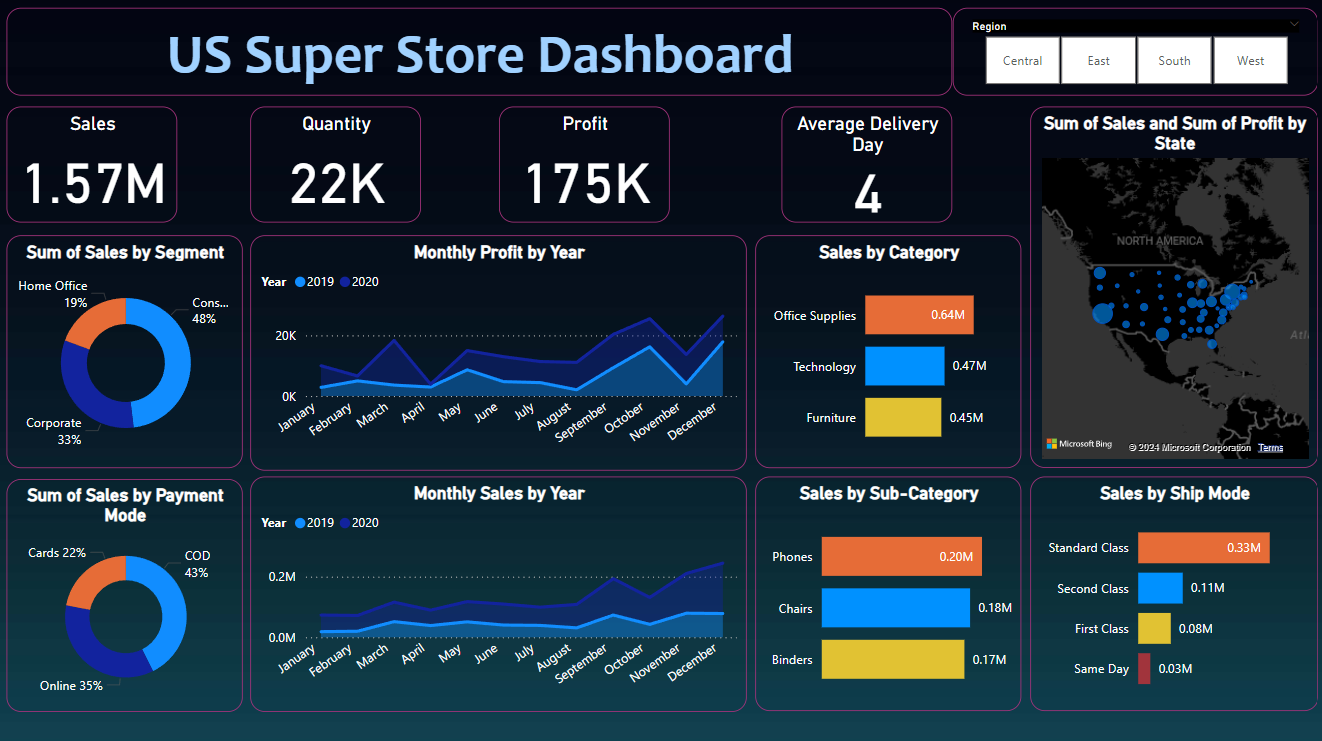

Layout of this report page (visuals, bound fields, positions):
{"tool":"powerbi","page":{"name":"Page 1","canvas":[1280,720],"ordinal":0},"visuals":[{"type":"clusteredBarChart","title":"Sales by Category","fields":{"Category":["SuperStore_Sales_Dataset.Category"],"Y":["Sum(SuperStore_Sales_Dataset.Sales)"]},"box":[730,228,257,225],"z":0},{"type":"clusteredBarChart","title":"Sales by Sub-Category","fields":{"Category":["SuperStore_Sales_Dataset.Sub-Category"],"Y":["Sum(SuperStore_Sales_Dataset.Sales)"]},"box":[730,461,257,226],"z":1000},{"type":"clusteredBarChart","title":"Sales by Ship Mode","fields":{"Category":["SuperStore_Sales_Dataset.Ship Mode"],"Y":["Sum(SuperStore_Sales_Dataset.Sales)"]},"box":[995,461,278,226],"z":2000},{"type":"stackedAreaChart","title":"Monthly Sales by Year","fields":{"Y":["Sum(SuperStore_Sales_Dataset.Sales)"],"Category":["SuperStore_Sales_Dataset.Order Date.Variation.Date Hierarchy.Month"],"Series":["SuperStore_Sales_Dataset.Order Date.Variation.Date Hierarchy.Year"]},"box":[242,461,479,227],"z":3000},{"type":"stackedAreaChart","title":"Monthly Profit by Year","fields":{"Category":["SuperStore_Sales_Dataset.Order Date.Variation.Date Hierarchy.Month"],"Series":["SuperStore_Sales_Dataset.Order Date.Variation.Date Hierarchy.Year"],"Y":["Sum(SuperStore_Sales_Dataset.Profit)"]},"box":[242,228,479,227],"z":4000},{"type":"map","fields":{"Category":["SuperStore_Sales_Dataset.State"],"Size":["Sum(SuperStore_Sales_Dataset.Sales)"]},"box":[995,104,278,349],"z":5000},{"type":"donutChart","fields":{"Category":["SuperStore_Sales_Dataset.Segment"],"Y":["Sum(SuperStore_Sales_Dataset.Sales)"]},"box":[7,228,228,225],"z":6000},{"type":"donutChart","fields":{"Category":["SuperStore_Sales_Dataset.Payment Mode"],"Y":["Sum(SuperStore_Sales_Dataset.Sales)"]},"box":[7,463,228,225],"z":7000},{"type":"slicer","fields":{"Values":["SuperStore_Sales_Dataset.Region"]},"box":[920,9,353,85],"z":8000},{"type":"textbox","box":[7,9,913,85],"z":9000},{"type":"card","title":"Sales","fields":{"Values":["Sum(SuperStore_Sales_Dataset.Sales)"]},"box":[7,104,165,112],"z":10000},{"type":"card","title":"Quantity","fields":{"Values":["Sum(SuperStore_Sales_Dataset.Quantity)"]},"box":[242,104,165,112],"z":11000},{"type":"card","title":"Profit","fields":{"Values":["Sum(SuperStore_Sales_Dataset.Profit)"]},"box":[482,104,165,112],"z":12000},{"type":"card","title":"Average Delivery Day","fields":{"Values":["Avg(SuperStore_Sales_Dataset.AvgDelivery)"]},"box":[755,104,165,112],"z":13000}]}

Visuals, with their boxes in screenshot pixels (x1, y1, x2, y2), scaled from the page's 1280x720 canvas onto the 1322x741 screenshot:
"Sales by Category" clusteredBarChart: [754,235,1019,466]
"Sales by Sub-Category" clusteredBarChart: [754,474,1019,707]
"Sales by Ship Mode" clusteredBarChart: [1028,474,1315,707]
"Monthly Sales by Year" stackedAreaChart: [250,474,745,708]
"Monthly Profit by Year" stackedAreaChart: [250,235,745,468]
map - SuperStore_Sales_Dataset.State x Sum(SuperStore_Sales_Dataset.Sales): [1028,107,1315,466]
donutChart - SuperStore_Sales_Dataset.Segment x Sum(SuperStore_Sales_Dataset.Sales): [7,235,243,466]
donutChart - SuperStore_Sales_Dataset.Payment Mode x Sum(SuperStore_Sales_Dataset.Sales): [7,477,243,708]
slicer - SuperStore_Sales_Dataset.Region: [950,9,1315,97]
textbox: [7,9,950,97]
"Sales" card: [7,107,178,222]
"Quantity" card: [250,107,420,222]
"Profit" card: [498,107,668,222]
"Average Delivery Day" card: [780,107,950,222]
